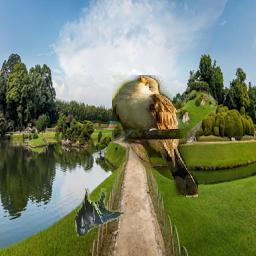Crow: (75, 188, 125, 236)
Cuckoo: (112, 75, 198, 197)
